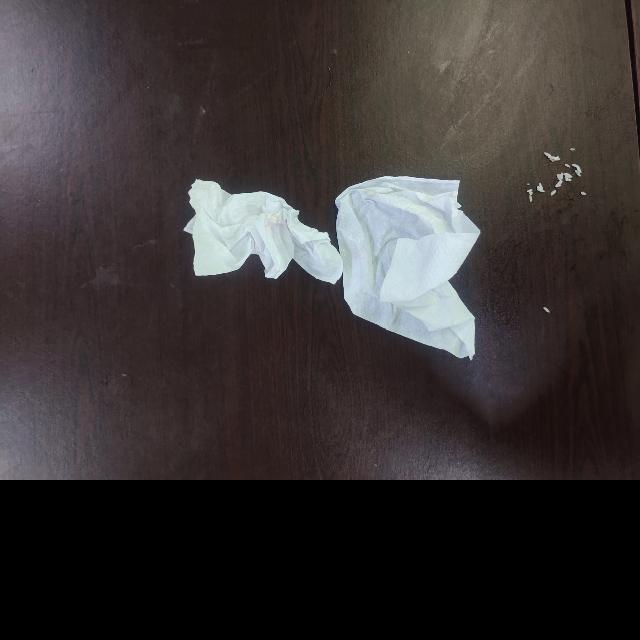kitchen paper: (330, 171, 484, 364), (180, 175, 348, 285)
